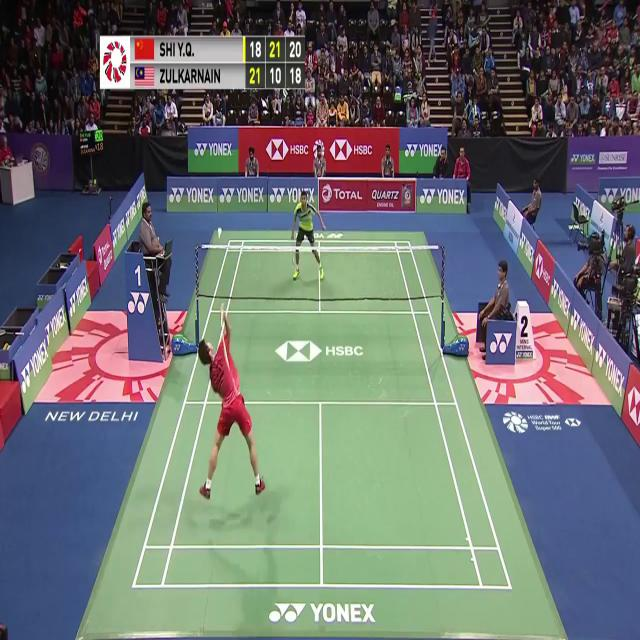Shuttlecock: (215, 230, 222, 241)
